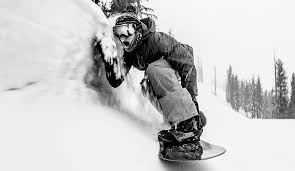snowboard: (158, 128, 228, 164)
